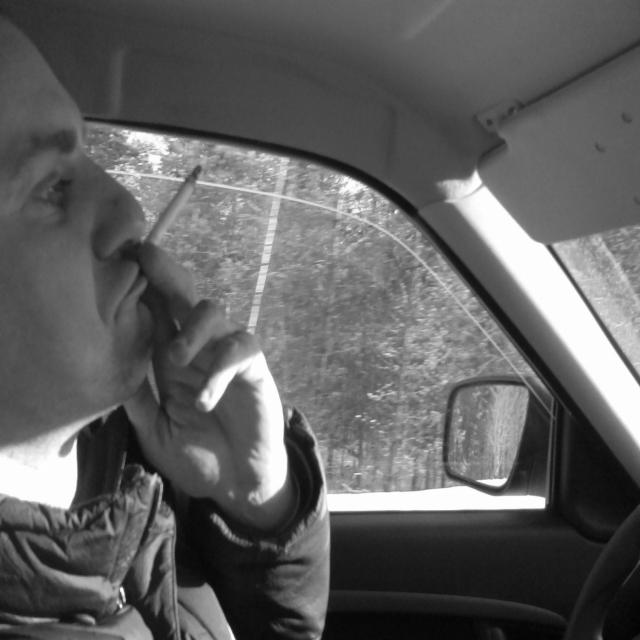Cigarette: (137, 151, 209, 265)
